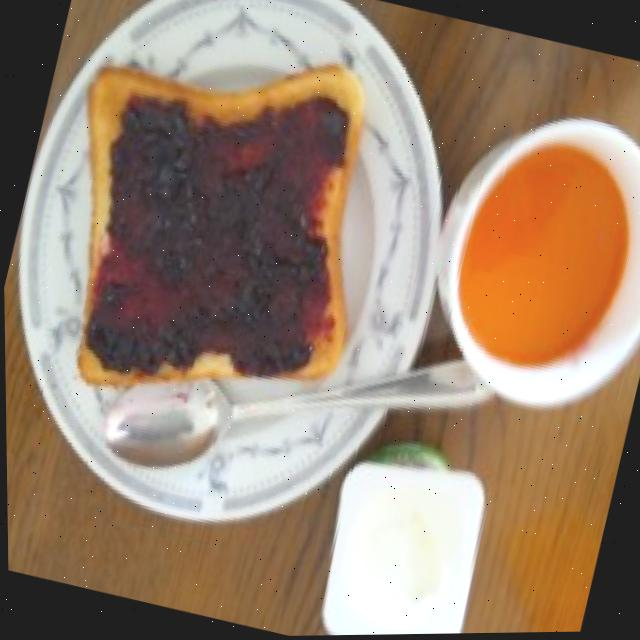面包点心: (17, 8, 402, 433)
